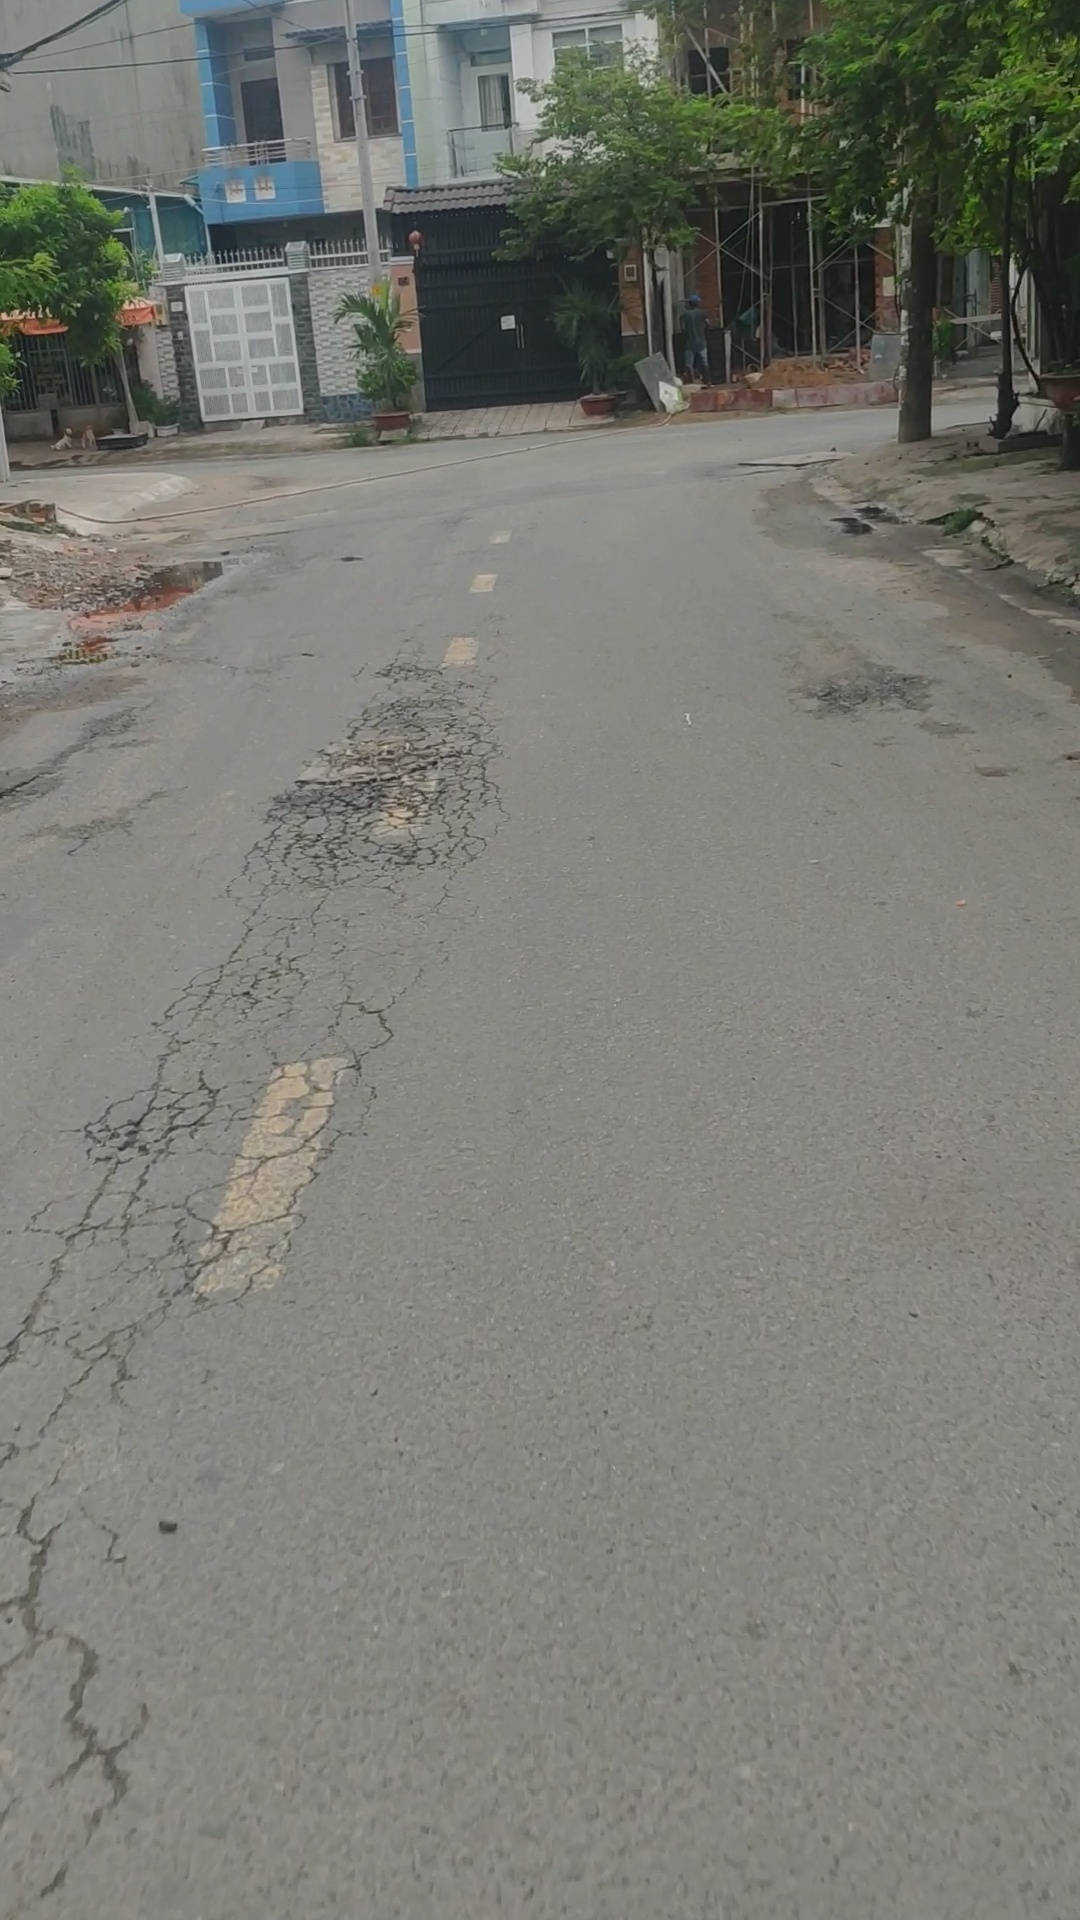hole: (268, 654, 530, 869), (57, 545, 251, 638), (789, 653, 945, 727), (825, 512, 881, 543)
